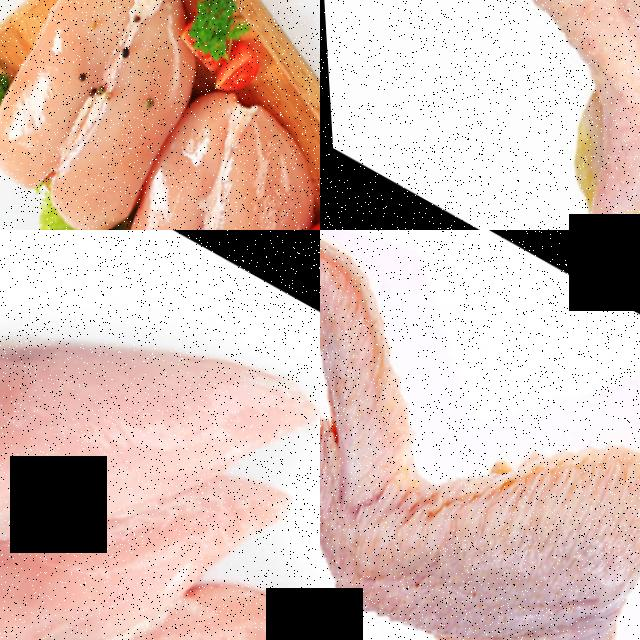chicken breast: (0, 230, 281, 611), (0, 0, 222, 230), (0, 503, 320, 640), (69, 71, 320, 230), (0, 481, 139, 640)
chicken thigh: (320, 0, 640, 209)
chicken wing: (320, 230, 640, 640)
